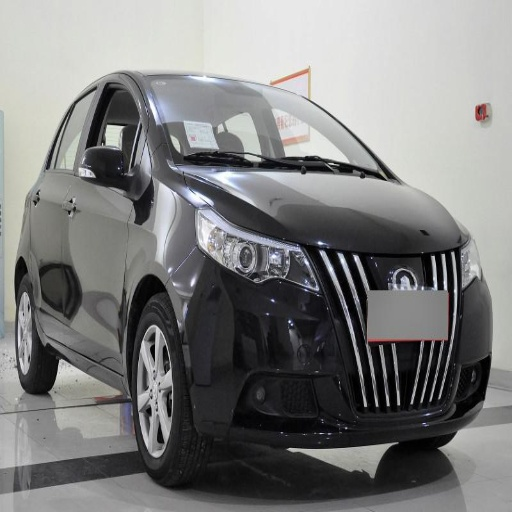front_bumper: (172, 245, 486, 439)
front_right_door: (63, 74, 144, 350)
front_right_light: (197, 208, 319, 292)
